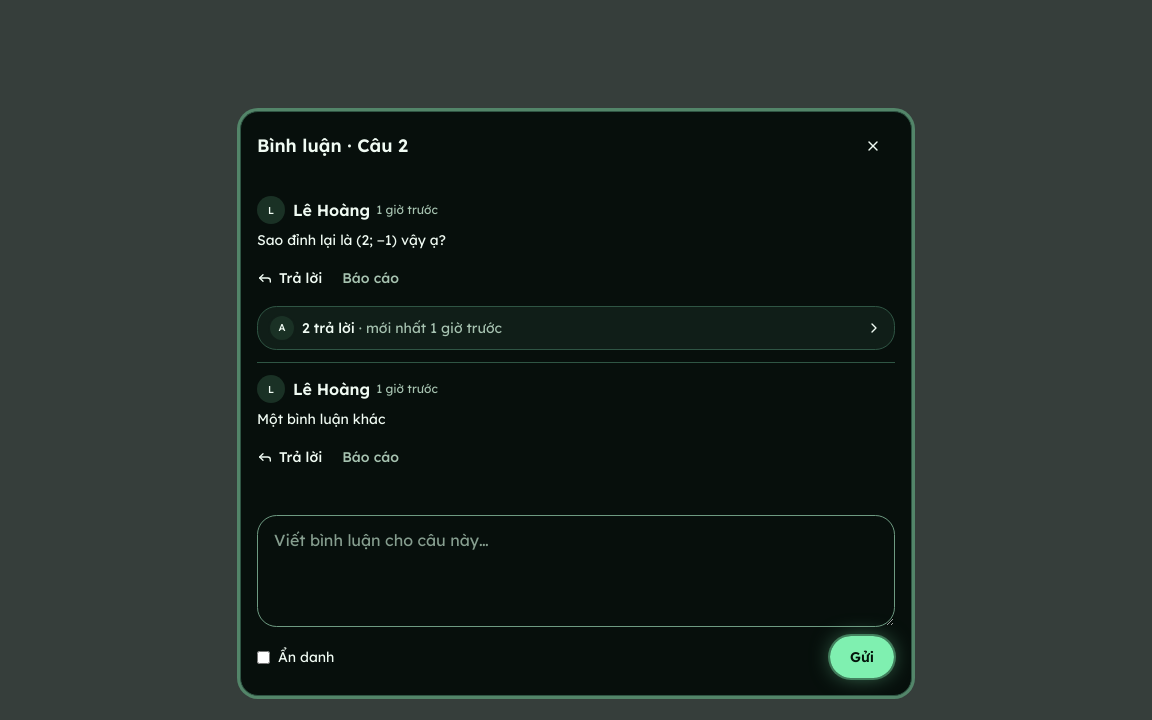
CommentSheet — mạch trả lời (AC-R1, AC-R2, AC-R9) › bấm '2 trả lời' → tiêu đề 'Trả lời · Câu 2', gốc + trả lời hiện, nút ← và ô nhập mang tên người được trả lời
Expected: the text "Sao đỉnh lại là (2; −1) vậy ạ?" is shown, [257,231,446,249]
Click the button "A 2 trả lời · mới nhất 1 giờ trước" at (328, 328), box [257,306,895,350]
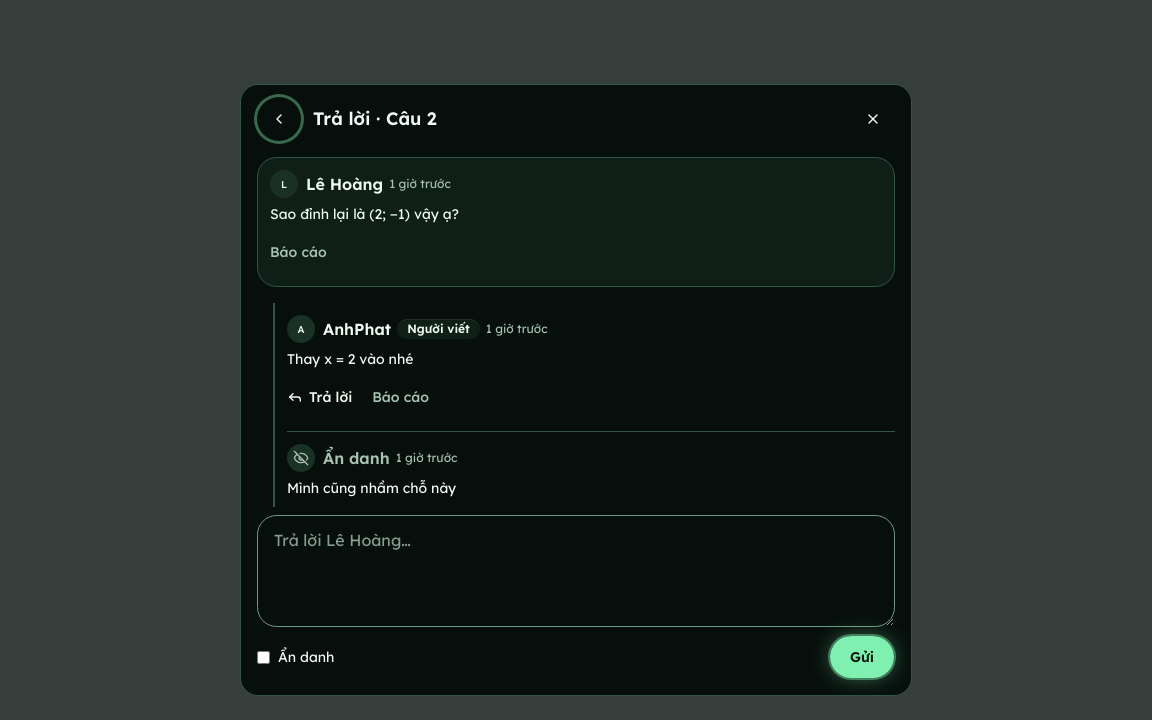
Expected: the heading "Trả lời · Câu 2" is shown, [313,107,437,130]
Expected: the text "Thay x = 2 vào nhé" is shown, [287,350,413,368]
Expected: the text "Mình cũng nhầm chỗ này" is shown, [287,479,456,497]
